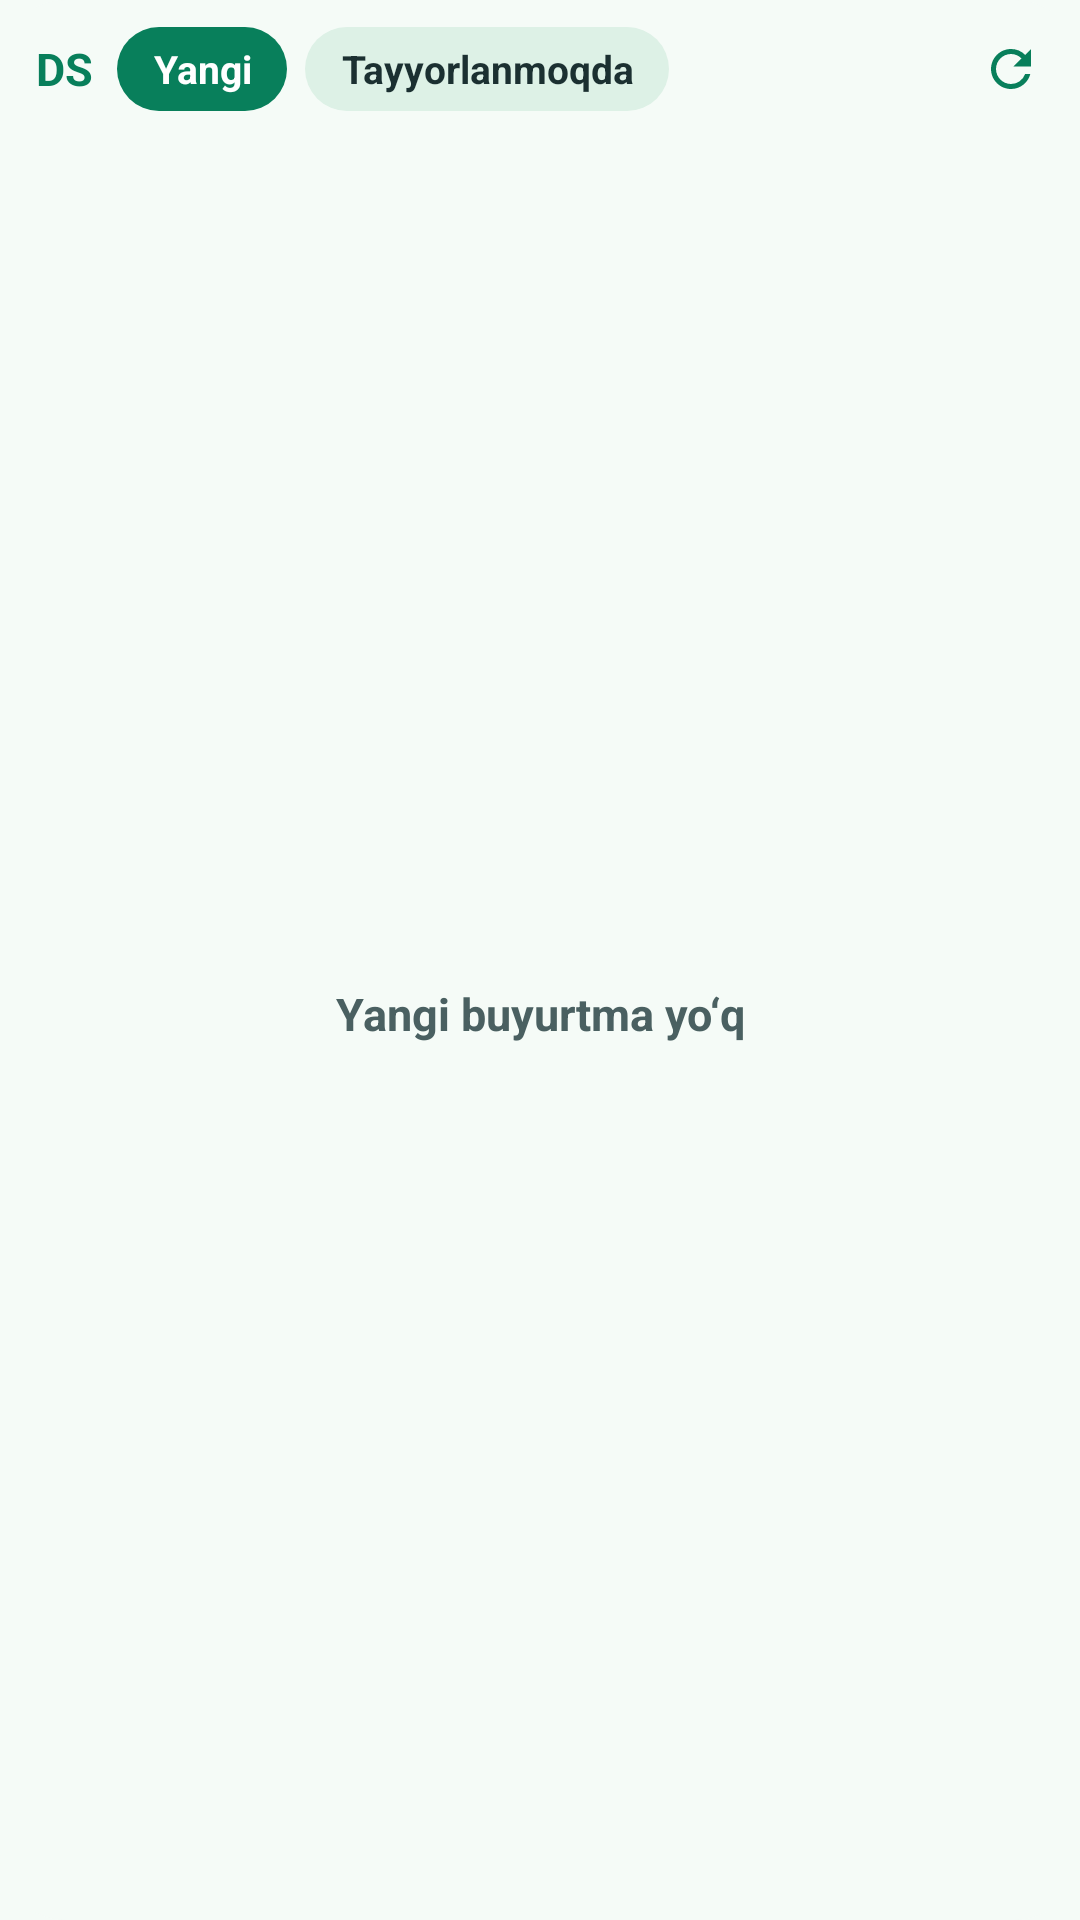

Icons on this 1080px x 1920px Android screen, each with its box as (x1,y1,x2,y2):
Yangilash: (991,49,1031,89)
